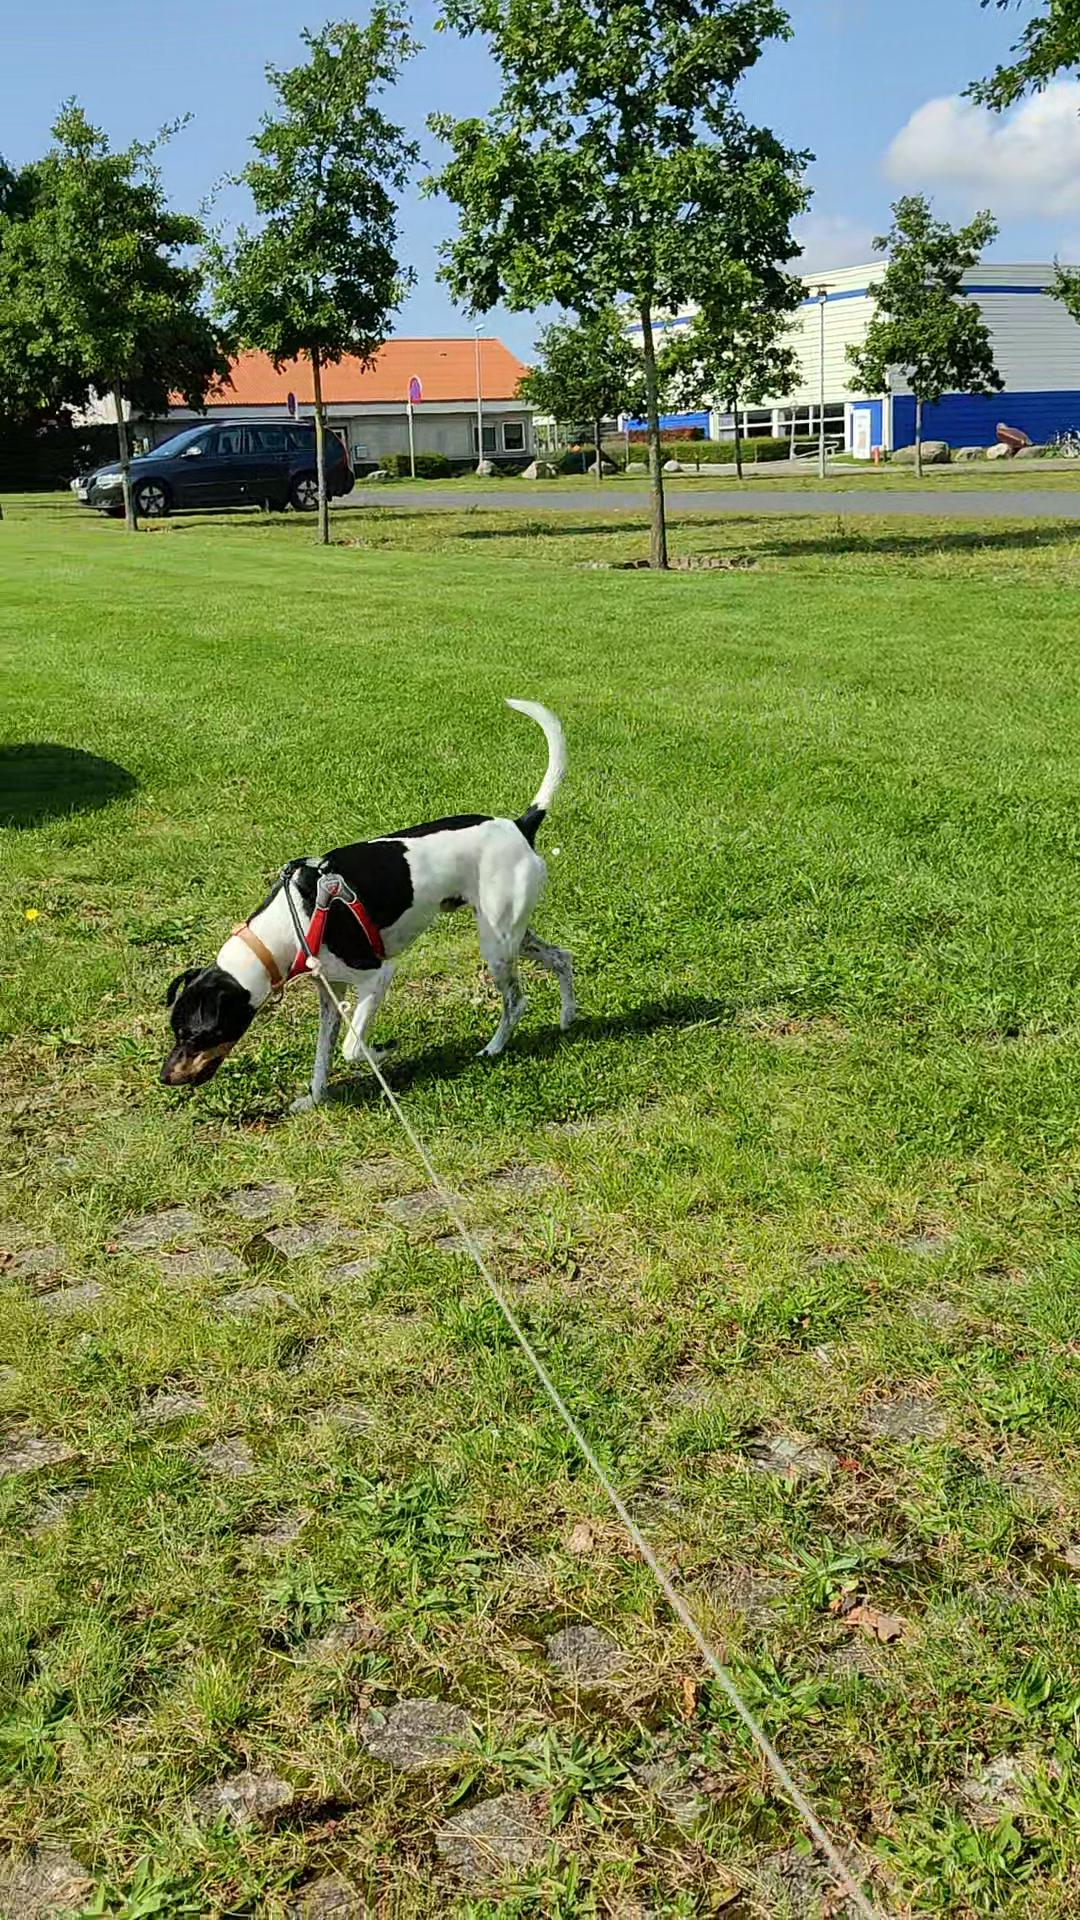Dog: (137, 676, 595, 1133)
